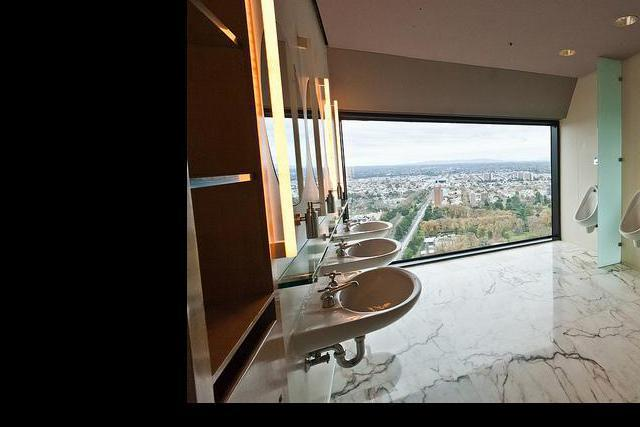Lavamanos: (314, 262, 422, 334), (336, 231, 397, 264), (344, 217, 388, 233)
Sanitario: (572, 180, 601, 235), (618, 183, 640, 246)
